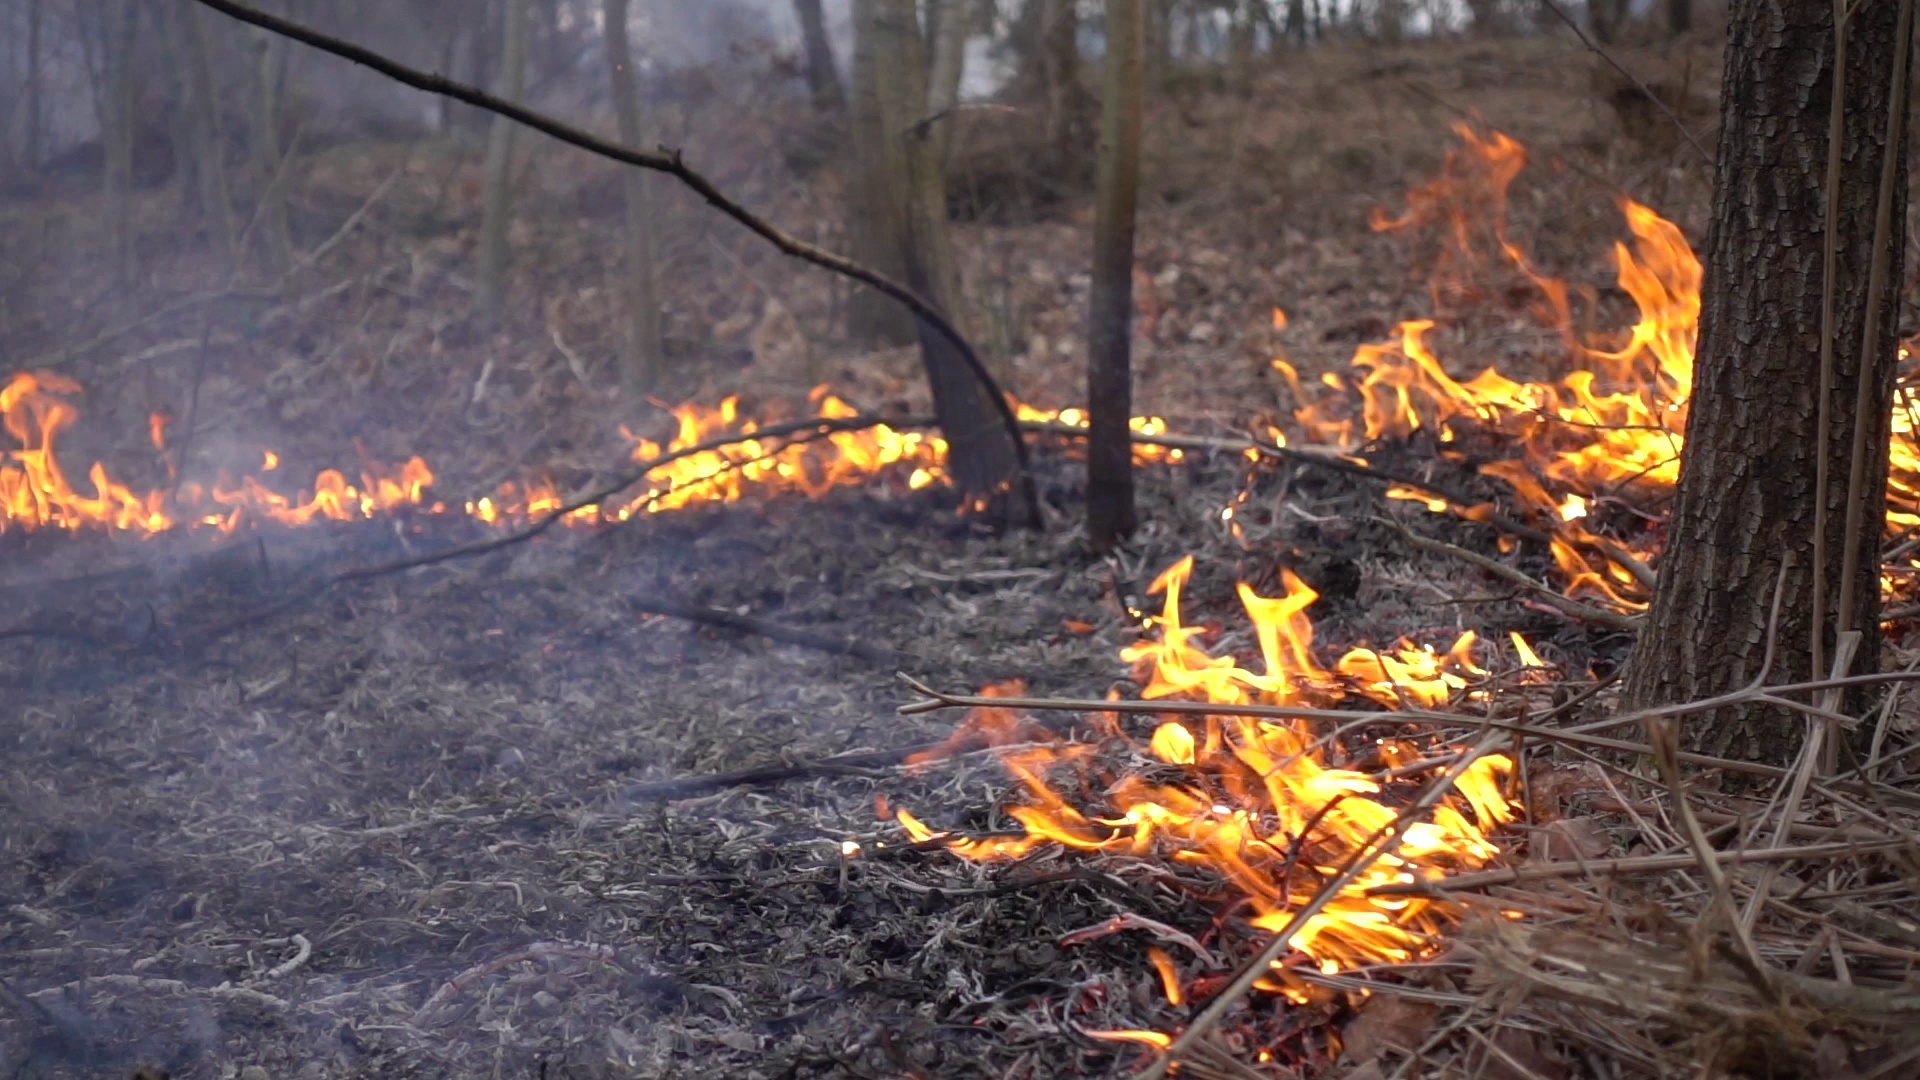fire: (998, 566, 1503, 982), (1257, 199, 1702, 530), (615, 393, 949, 498), (1, 378, 182, 538), (218, 458, 431, 524), (1892, 386, 1920, 520), (1127, 410, 1171, 464), (1022, 404, 1087, 434)
